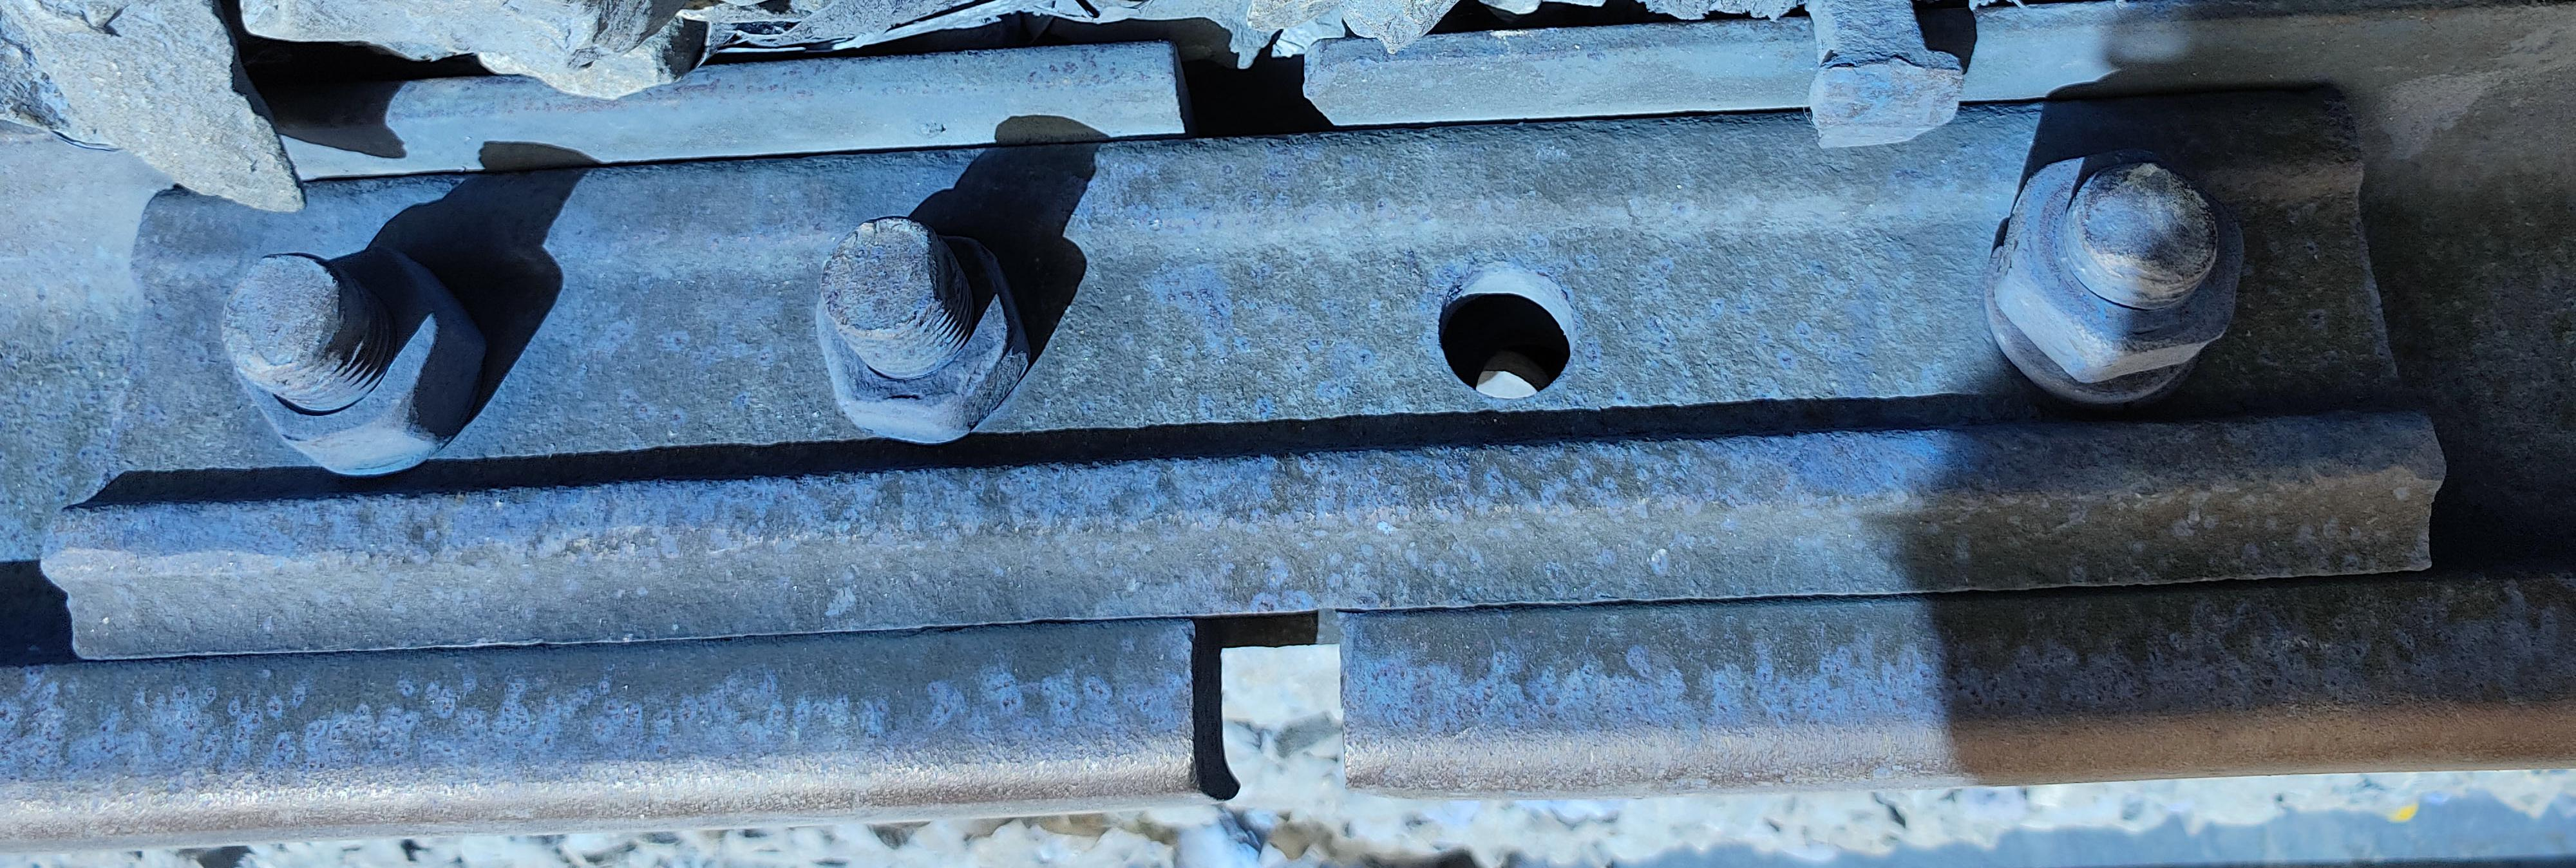error2: (1129, 590, 1460, 845)
